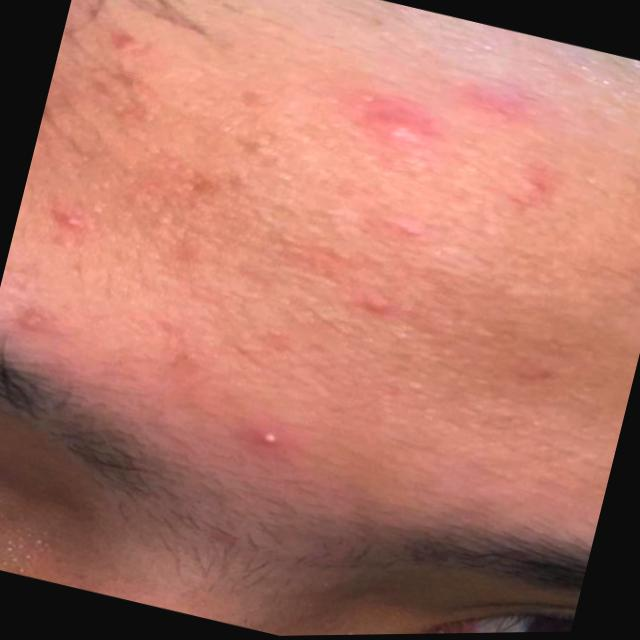papule: (320, 80, 557, 209), (343, 279, 421, 334)
pustule: (50, 203, 98, 237), (246, 418, 284, 459)
